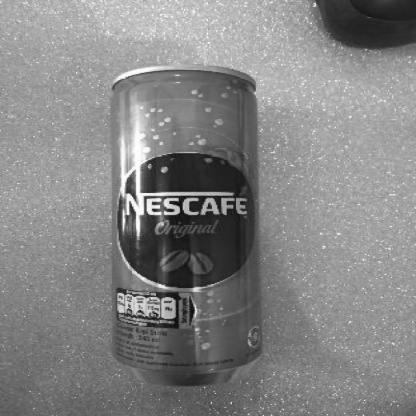alumunium_can: (104, 60, 256, 388)
